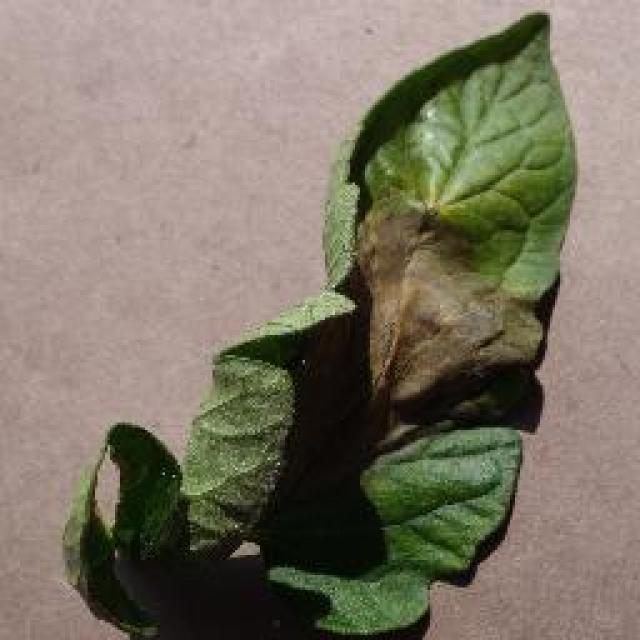Tomato___Late_blight: (60, 6, 582, 638)
